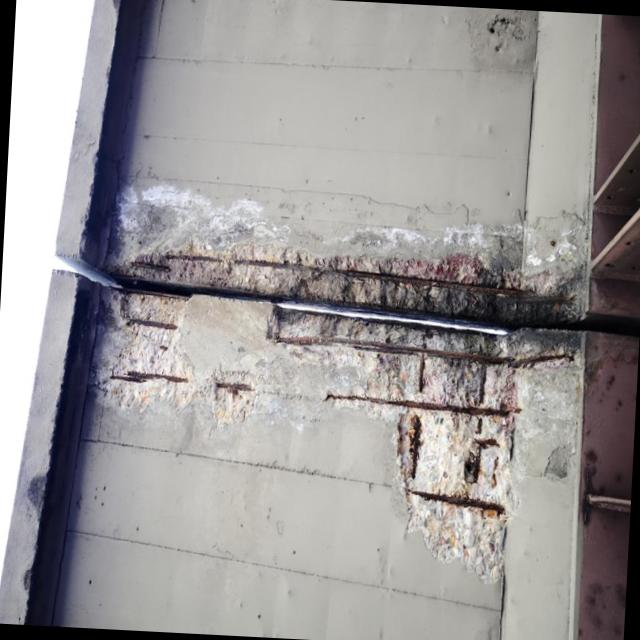spalling: (93, 238, 519, 589), (517, 348, 576, 374)
